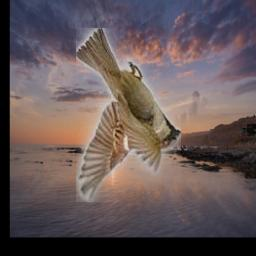Sparrow: (76, 28, 181, 202)
